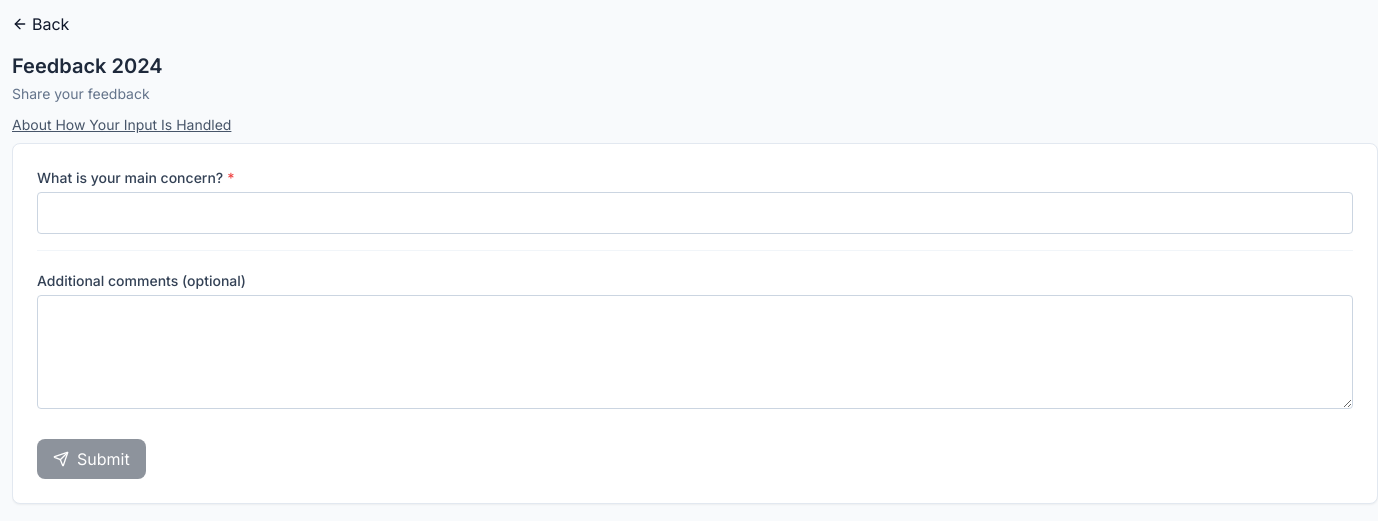
SurveyPost › Happy path › submits the form and shows completion screen when API succeeds
Type "Need more support" into the field labelled "What is your main concern?*" at (695, 213), box [37,192,1353,234]
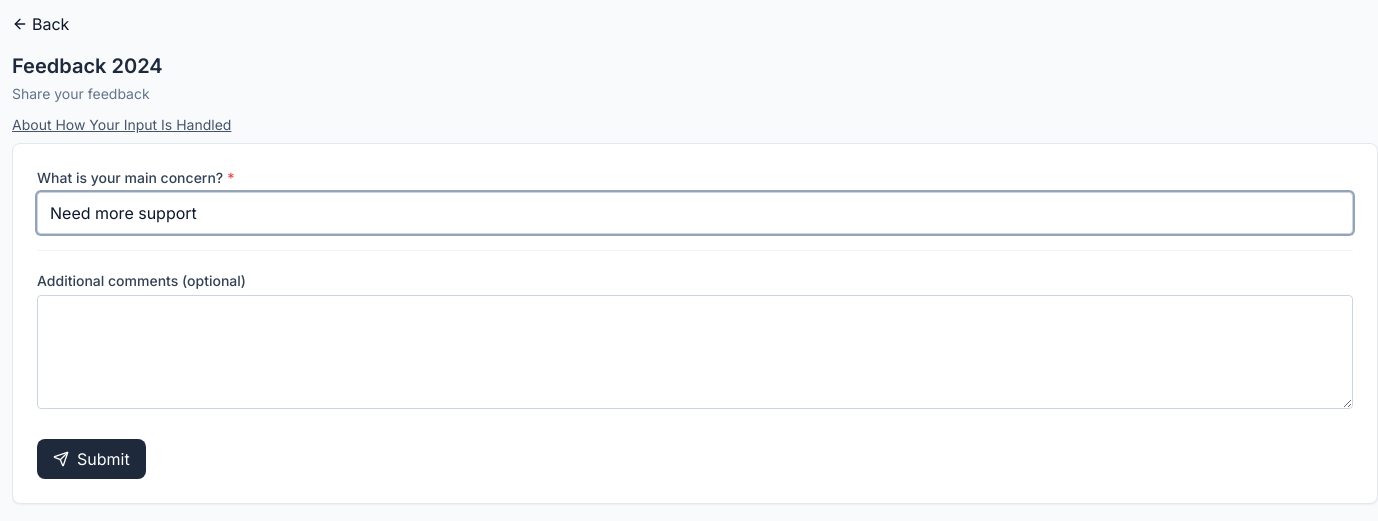
Now the button "Submit" is enabled
Click the button "Submit" at (91, 459), box [37,439,146,479]
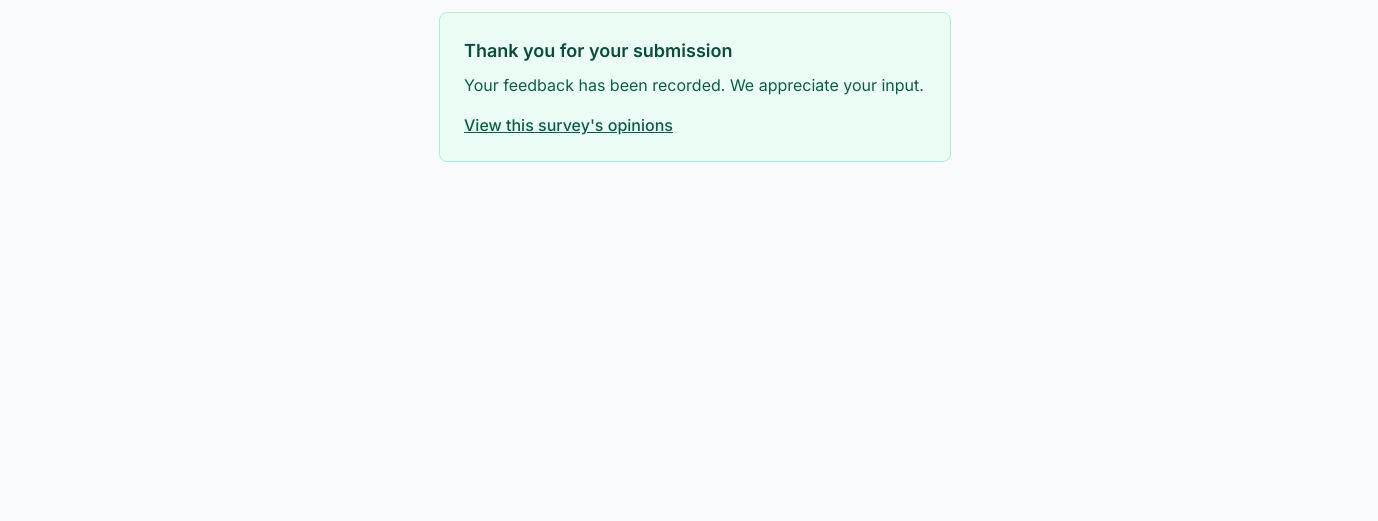
Now the heading "Thank you for your submission" is shown, box [464,40,732,61]
Now the text "Your feedback has been recorded. We appreciate your input." is shown, box [464,73,926,97]
Now the link "View this survey's opinions" is shown, box [464,113,673,137]
